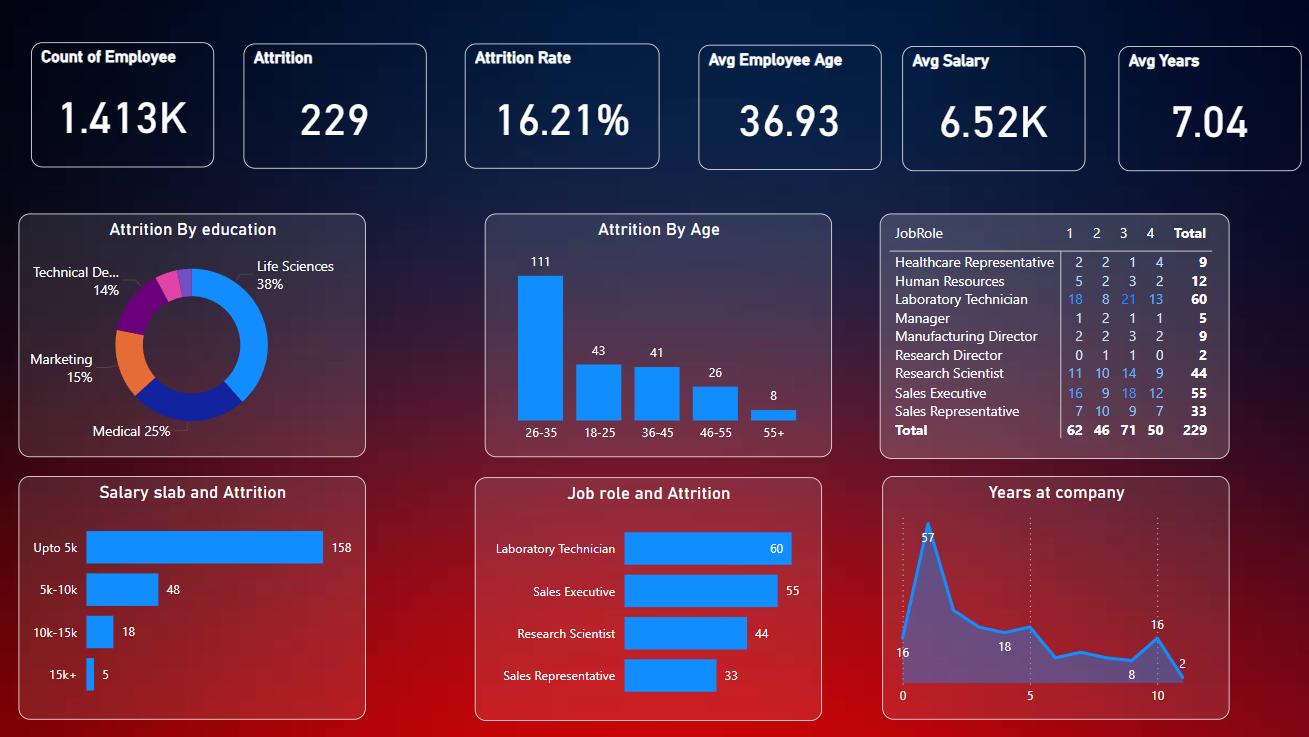

What the dashboard file says about the page in this screenshot:
{"tool":"powerbi","page":{"name":"Page 1","canvas":[1280,720],"ordinal":0},"visuals":[{"type":"cardVisual","title":"Count of Employee","fields":{"Data":["CountNonNull(HR_Analytics.EmpID)"]},"box":[34.2,44.2,176.7,121.2],"z":0},{"type":"cardVisual","title":"Attrition","fields":{"Data":["CountNonNull(HR_Analytics.Attrition)"]},"box":[239.5,45.6,176.7,121.2],"z":1},{"type":"cardVisual","title":"Attrition Rate","fields":{"Data":["HR_Analytics.Attrition rate"]},"box":[451.8,45.6,188.2,121.2],"z":2},{"type":"cardVisual","title":"Avg Employee Age","fields":{"Data":["Avg(HR_Analytics.Age)"]},"box":[678.5,47,176.7,121.2],"z":3},{"type":"cardVisual","title":"Avg Salary","fields":{"Data":["Avg(HR_Analytics.MonthlyIncome)"]},"box":[875.2,48.5,176.7,121.2],"z":4},{"type":"cardVisual","title":"Avg Years","fields":{"Data":["Avg(HR_Analytics.YearsAtCompany)"]},"box":[1083.3,48.5,176.7,121.2],"z":5},{"type":"donutChart","title":"Attrition By education","fields":{"Category":["HR_Analytics.EducationField"],"Y":["Sum(HR_Analytics.Atrition count)"]},"box":[21.4,209.5,335,235.2],"z":6},{"type":"columnChart","title":"Attrition By Age","fields":{"Y":["Sum(HR_Analytics.Atrition count)"],"Category":["HR_Analytics.AgeGroup"]},"box":[471.8,209.5,335,235.2],"z":7},{"type":"pivotTable","fields":{"Rows":["HR_Analytics.JobRole"],"Columns":["HR_Analytics.JobSatisfaction"],"Values":["Sum(HR_Analytics.Atrition count)"]},"box":[852.4,209.5,337.8,236.6],"z":8},{"type":"barChart","title":"Job role and Attrition","fields":{"Category":["HR_Analytics.JobRole"],"Y":["Sum(HR_Analytics.Atrition count)"]},"box":[461.8,464.7,335,235.2],"z":9},{"type":"barChart","title":"Salary slab and Attrition","fields":{"Category":["HR_Analytics.SalarySlab"],"Y":["Sum(HR_Analytics.Atrition count)"]},"box":[21.4,463.3,335,235.2],"z":10},{"type":"areaChart","title":"Years at company","fields":{"Category":["HR_Analytics.YearsAtCompany"],"Y":["Sum(HR_Analytics.Atrition count)"]},"box":[855.2,463.3,335,235.2],"z":11}]}

Visuals, with their boxes in screenshot pixels (x1, y1, x2, y2), scaled from the page's 1280x720 canvas onto the 1309x737 screenshot:
"Count of Employee" cardVisual: <bbox>35, 45, 216, 169</bbox>
"Attrition" cardVisual: <bbox>245, 47, 426, 171</bbox>
"Attrition Rate" cardVisual: <bbox>462, 47, 654, 171</bbox>
"Avg Employee Age" cardVisual: <bbox>694, 48, 875, 172</bbox>
"Avg Salary" cardVisual: <bbox>895, 50, 1076, 174</bbox>
"Avg Years" cardVisual: <bbox>1108, 50, 1289, 174</bbox>
"Attrition By education" donutChart: <bbox>22, 214, 364, 455</bbox>
"Attrition By Age" columnChart: <bbox>482, 214, 825, 455</bbox>
pivotTable - HR_Analytics.JobRole x HR_Analytics.JobSatisfaction: <bbox>872, 214, 1217, 457</bbox>
"Job role and Attrition" barChart: <bbox>472, 476, 815, 716</bbox>
"Salary slab and Attrition" barChart: <bbox>22, 474, 364, 715</bbox>
"Years at company" areaChart: <bbox>875, 474, 1217, 715</bbox>
